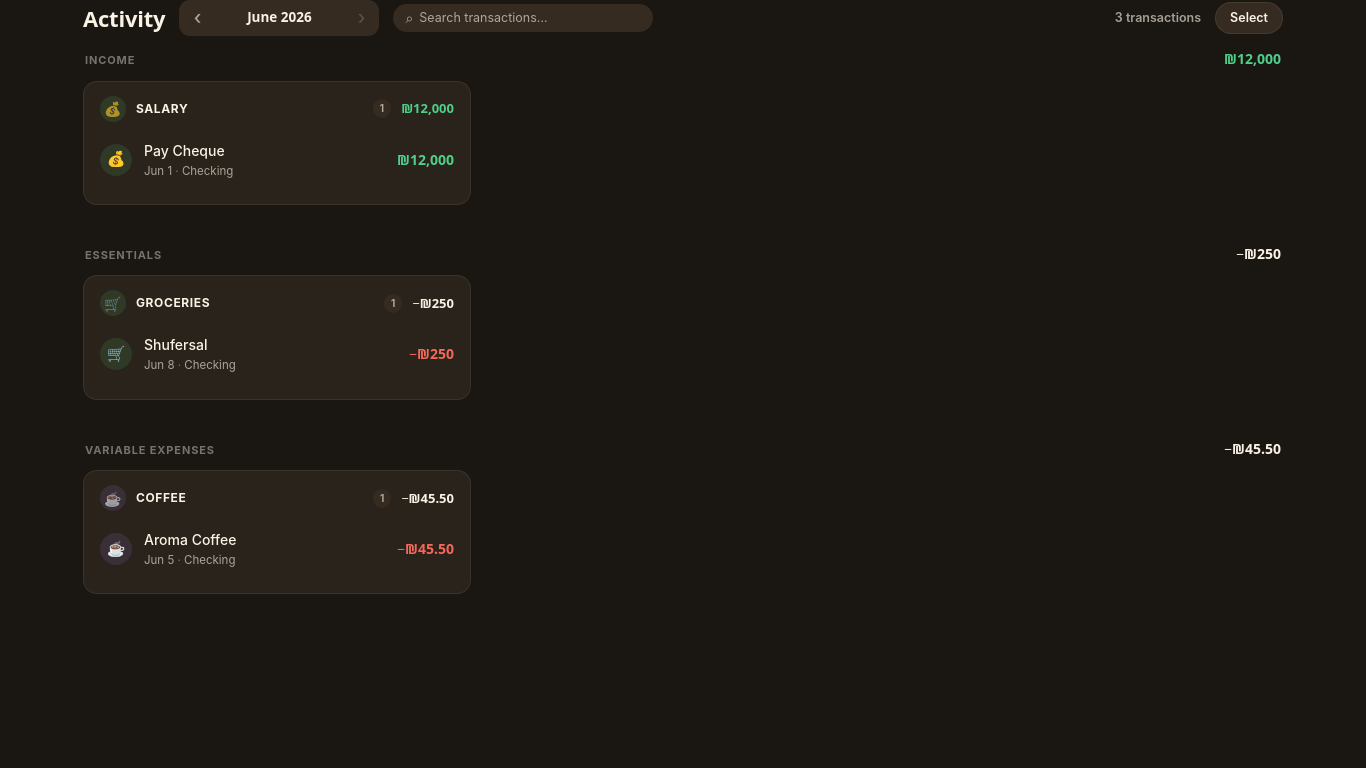
Scenario: ActivityView — always categorize + billing frequency › ticking "Always categorize" enables Save even without a category change
Click the text "Aroma Coffee": (190, 540) [144,531,236,548]
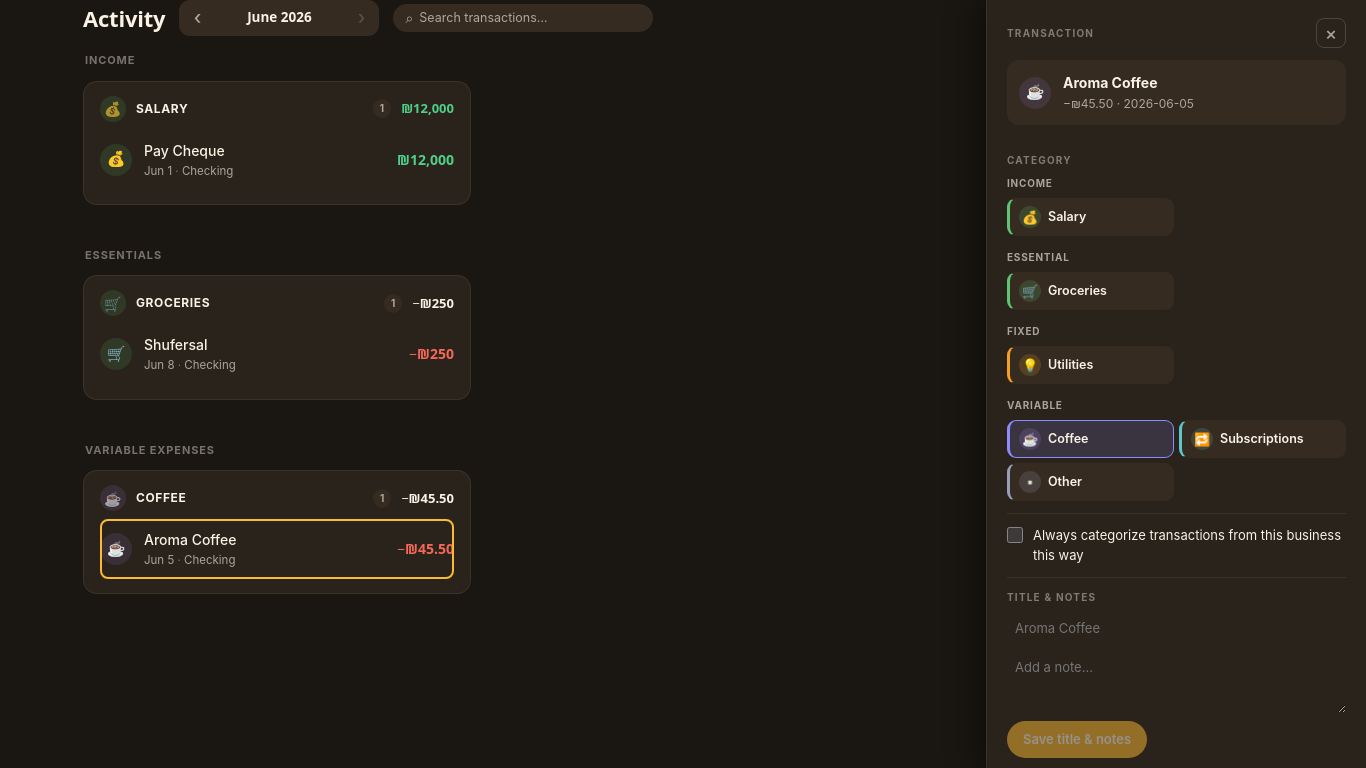
Click the checkbox labelled "Always categorize transactions from this business this way": (1015, 535) [1007,527,1023,543]
(page scrolled)
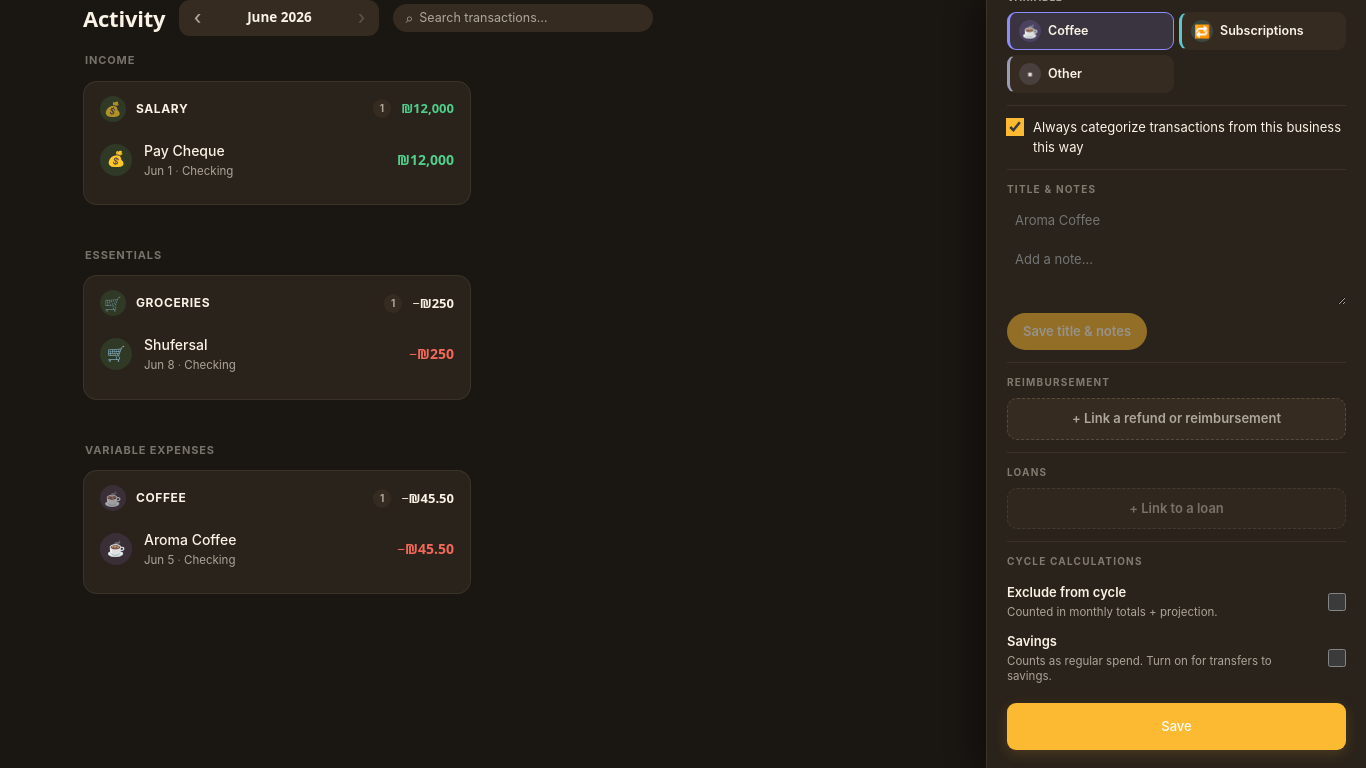
Expected: the button "Save" is enabled, [1007,702,1346,750]
